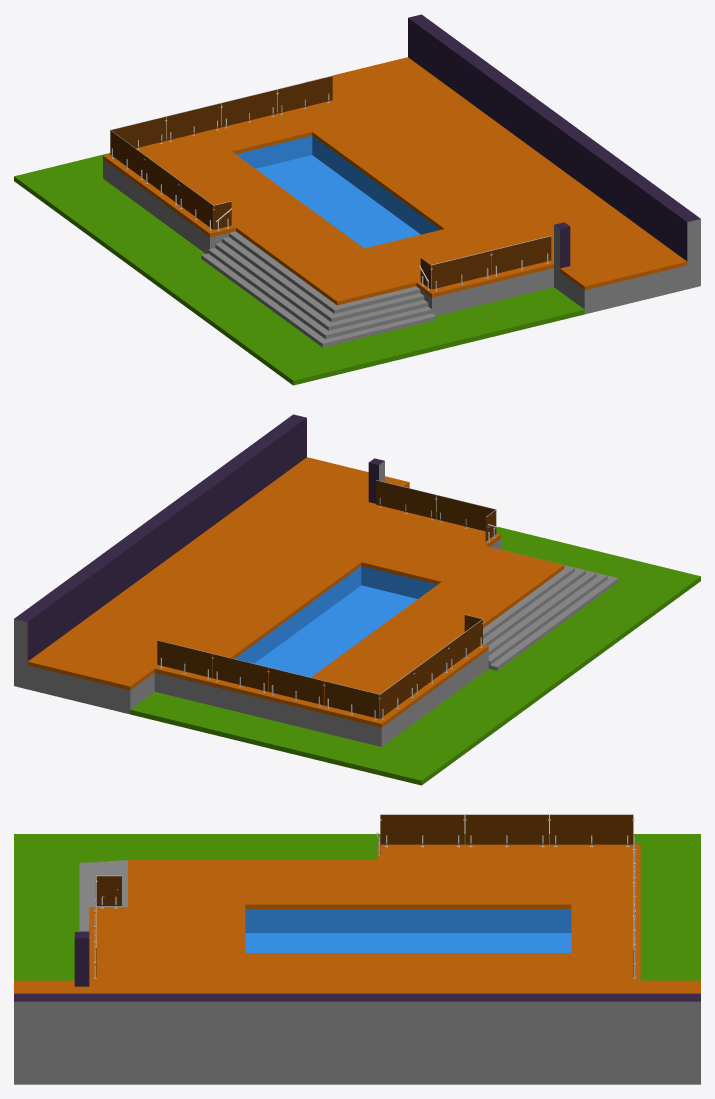
File: ограждение террасы.obj
3 renders of one model, top to bottom at view 1: azimuth 30°, elevation 25°; view 2: azimuth 150°, elevation 25°; view 3: azimuth 270°, elevation 25°, orthographic. The views are drawn at different scales.
Size of the model in its own units: 17.76 by 2.8 by 21.07.
